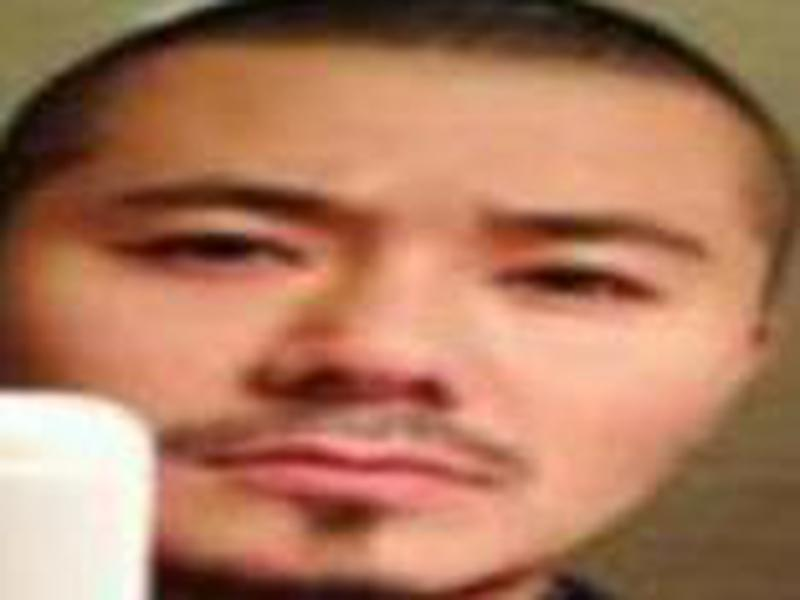without_mask: (23, 89, 742, 597)
